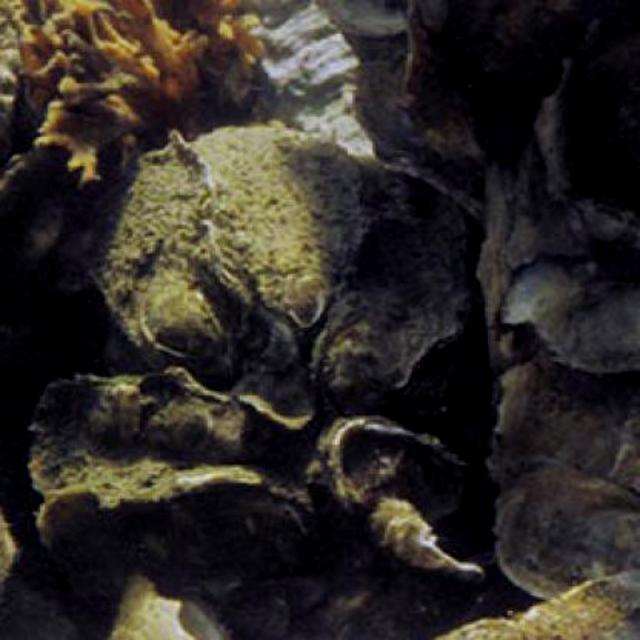Oyster-Closed: (320, 160, 472, 421), (87, 138, 246, 386), (28, 370, 294, 502), (191, 124, 364, 326), (486, 355, 640, 492), (496, 467, 640, 601), (501, 257, 640, 374), (434, 571, 640, 640)
